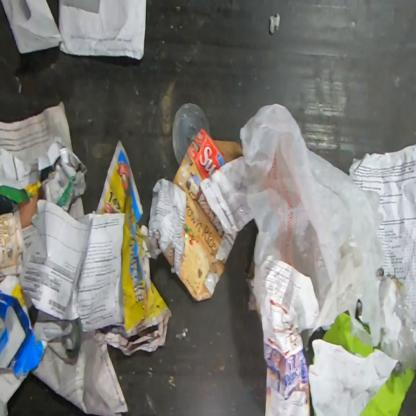cardboard: (172, 128, 240, 302), (0, 275, 49, 380), (163, 246, 174, 266)
rigid_plastic: (171, 102, 210, 166)
soft_plastic: (239, 103, 402, 348), (380, 284, 415, 379)
